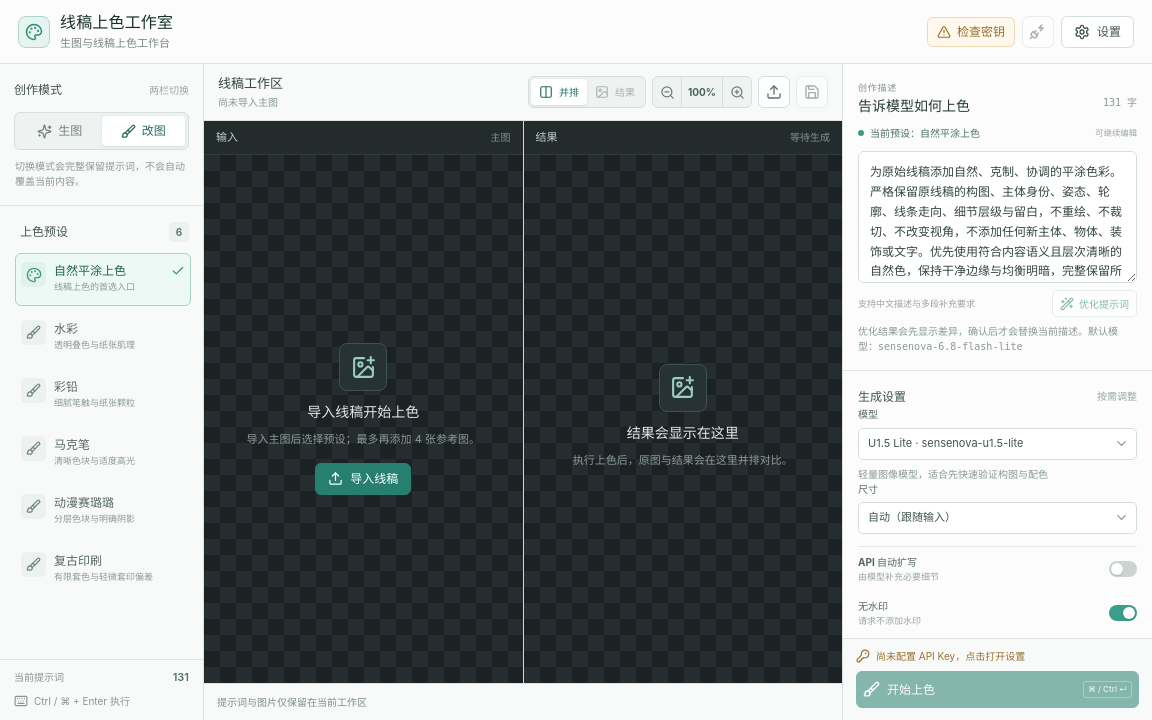
Scenario: studio workflow › invalidates an optimization when the prompt is edited again
Click the button "生图" at (60, 131), box [18,116,102,146]
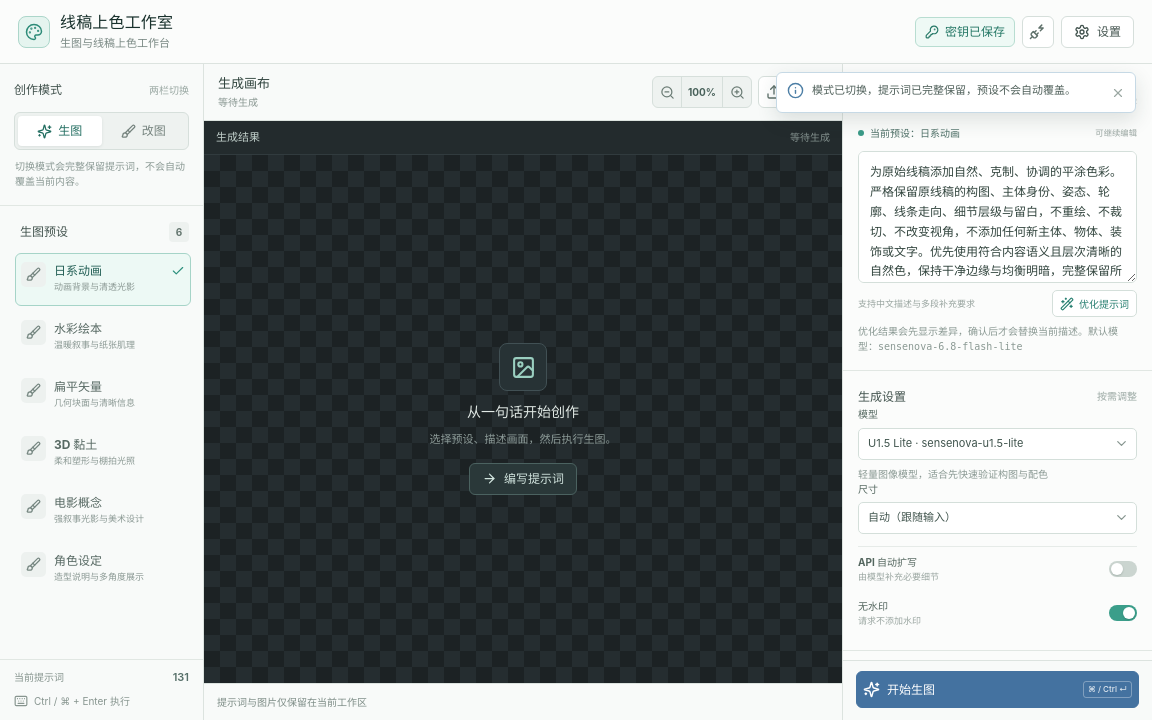
Replace the text in the text box named "提示词" with "蓝色眼睛" at (998, 217), box [858,151,1137,283]
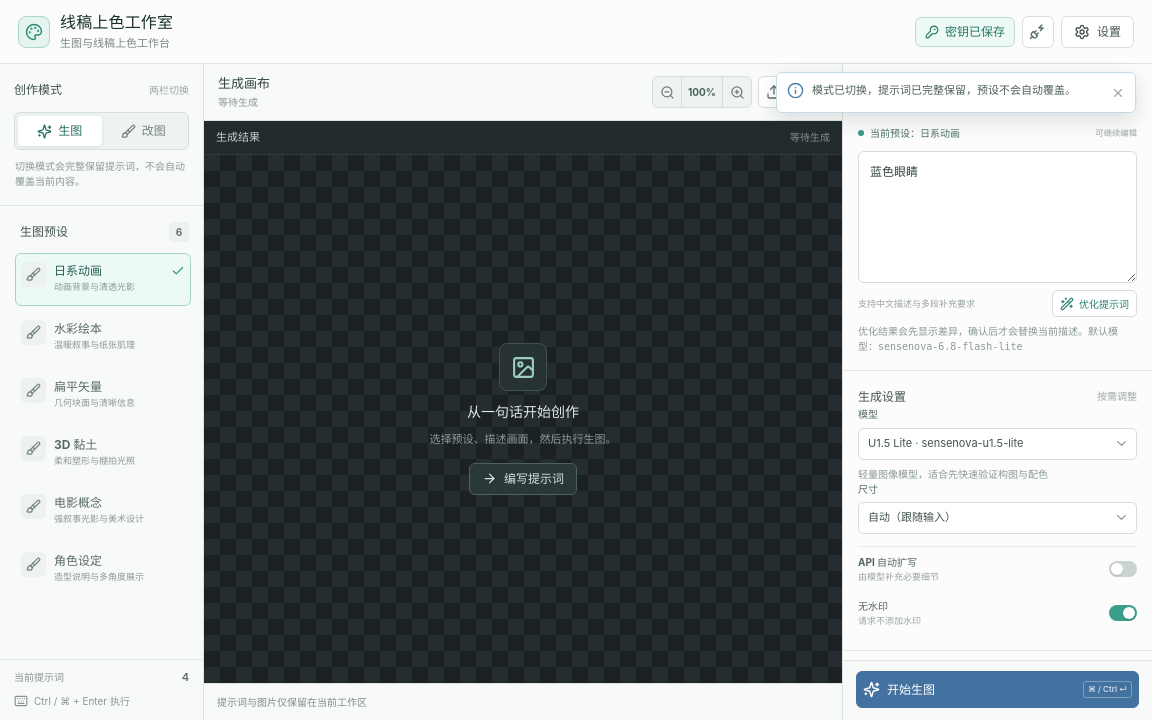
Click the button "优化提示词" at (1094, 304), box [1052,290,1137,317]
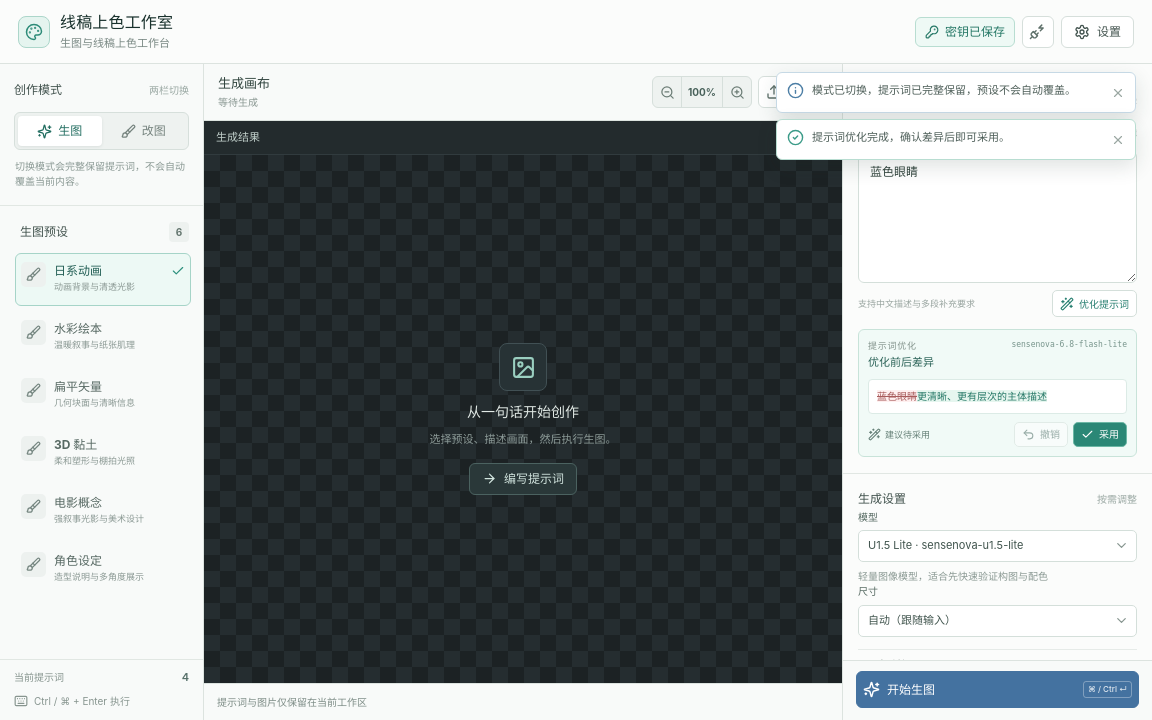
Expected: the text "优化前后差异" is shown, [868,356,934,371]
Replace the text in the text box named "提示词" with "绿色眼睛，保留手写要求" at (998, 217), box [858,151,1137,283]
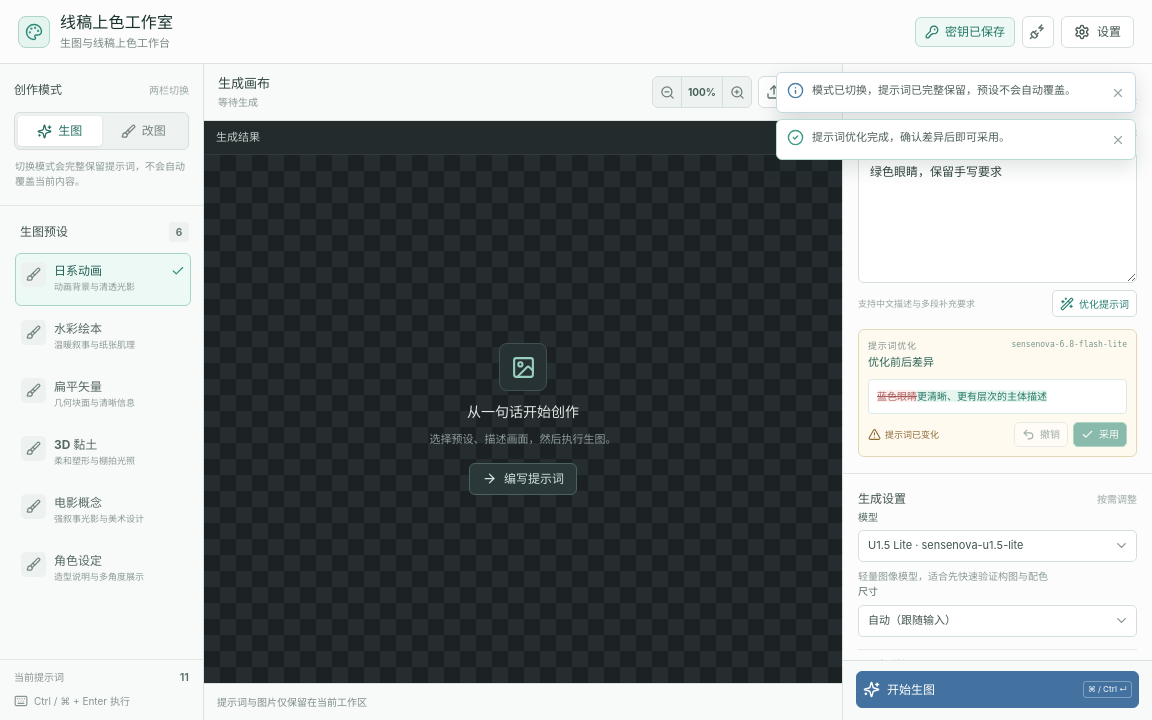
Expected: the button "撤销" is disabled, [1014,422,1068,447]
Expected: the text "提示词已变化" is shown, [868,428,939,441]
Expected: the button "采用" is disabled, [1073,422,1127,447]
